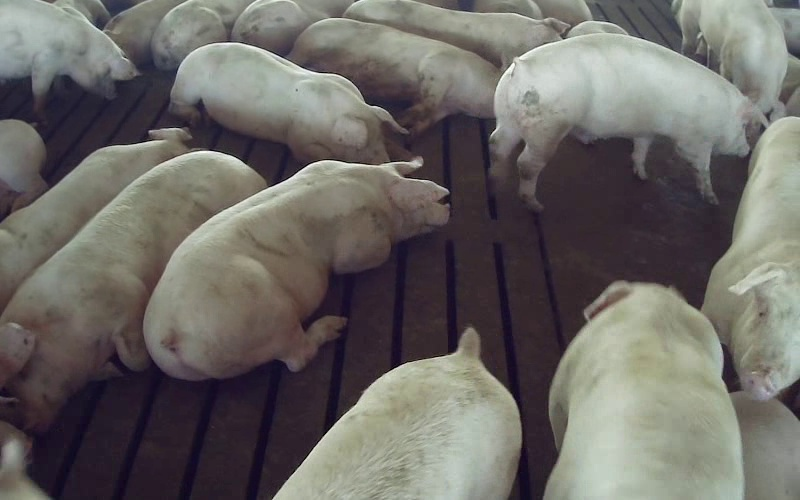pig: (0, 152, 265, 430), (144, 159, 449, 379), (490, 34, 764, 210), (545, 282, 743, 499), (274, 327, 519, 499), (0, 128, 190, 313), (170, 43, 410, 163), (702, 117, 799, 399), (288, 18, 500, 134), (343, 0, 569, 69), (674, 0, 787, 119)
